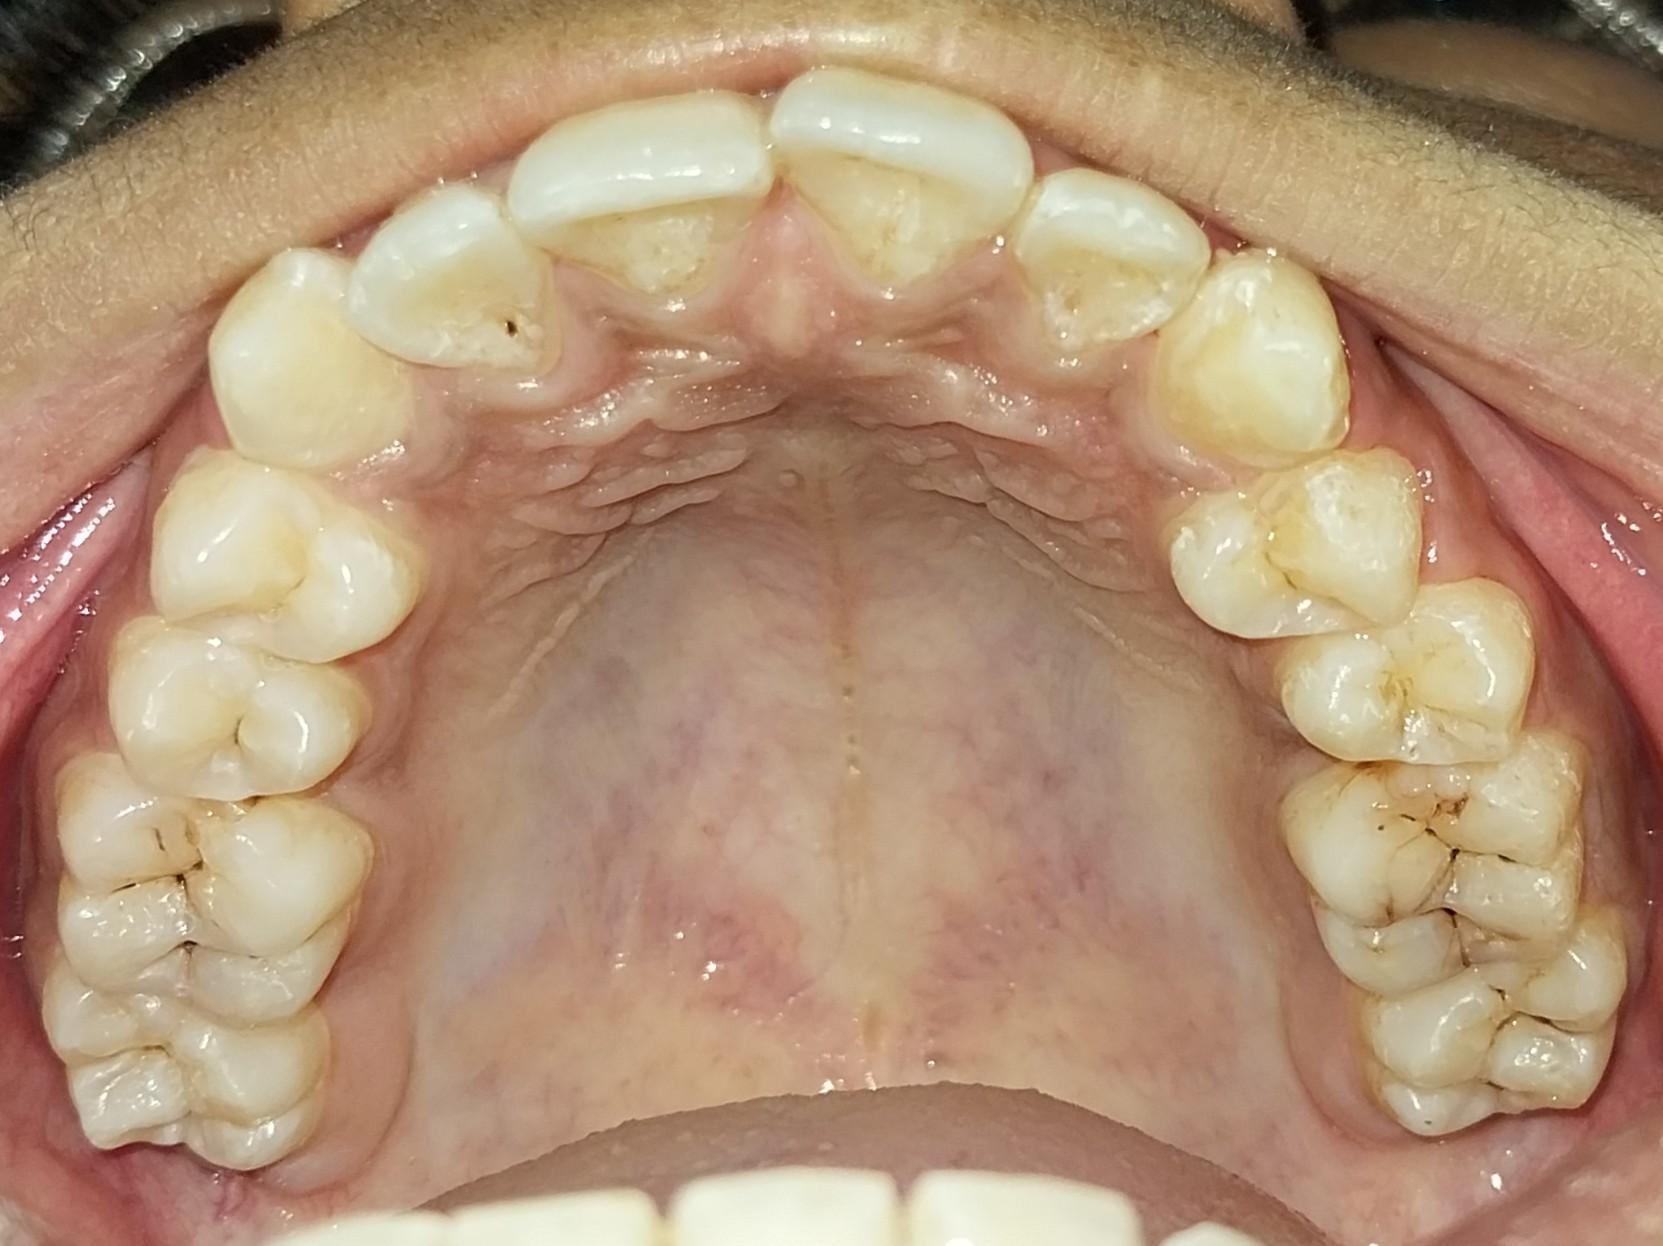D: (57, 754, 372, 1024), (1287, 738, 1584, 992), (1365, 905, 1622, 1134), (107, 614, 370, 801), (341, 177, 550, 374)
